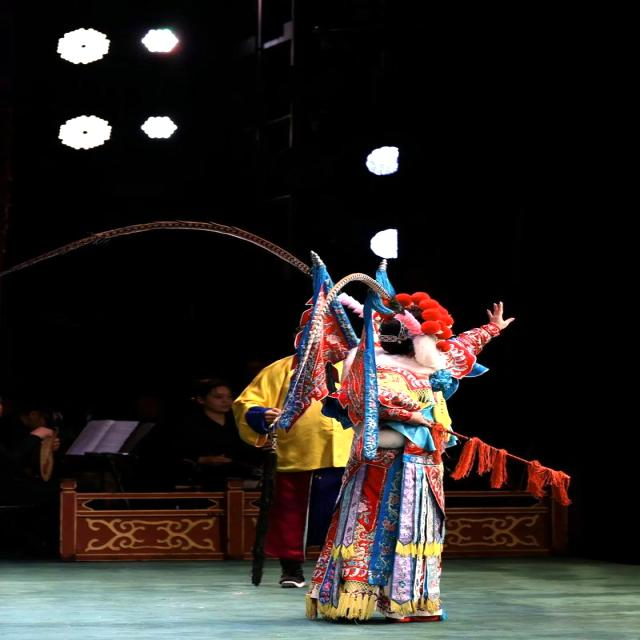Reeves-s Pheasant: (0, 220, 310, 277), (326, 273, 401, 315)
